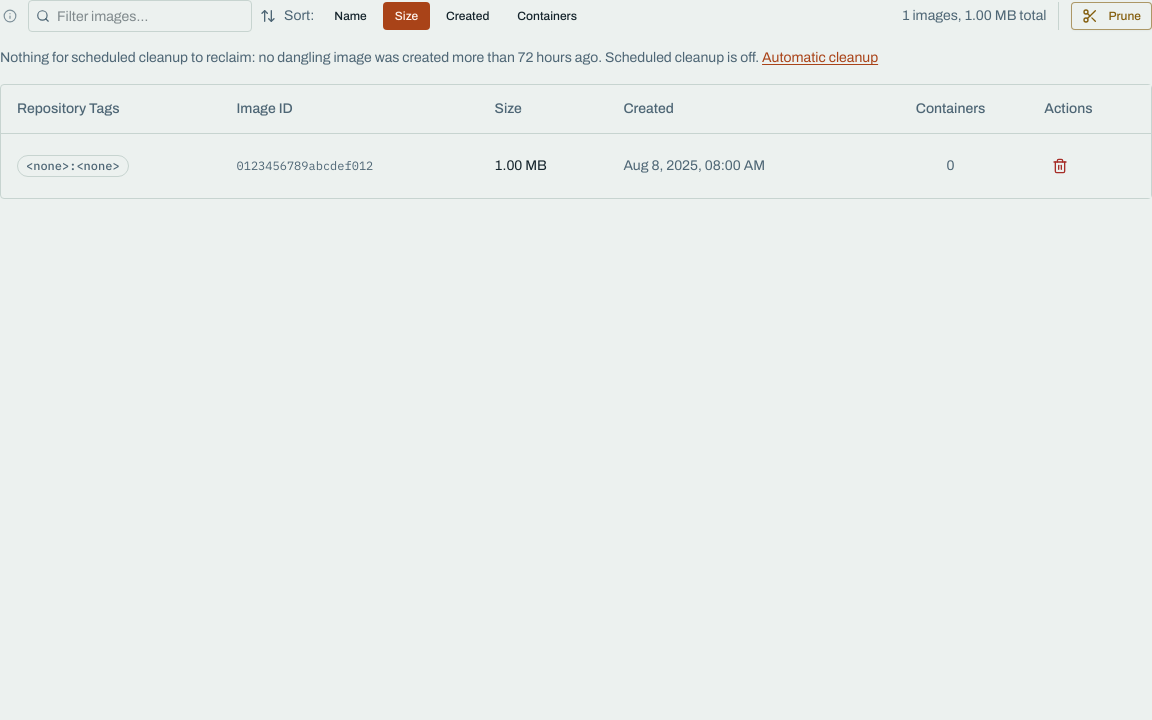
it: ImagesTab — deleting › names an untagged image by its id in the confirmation
Click the button named "Remove image". click: (1060, 166)
box: [1044,150,1076,182]
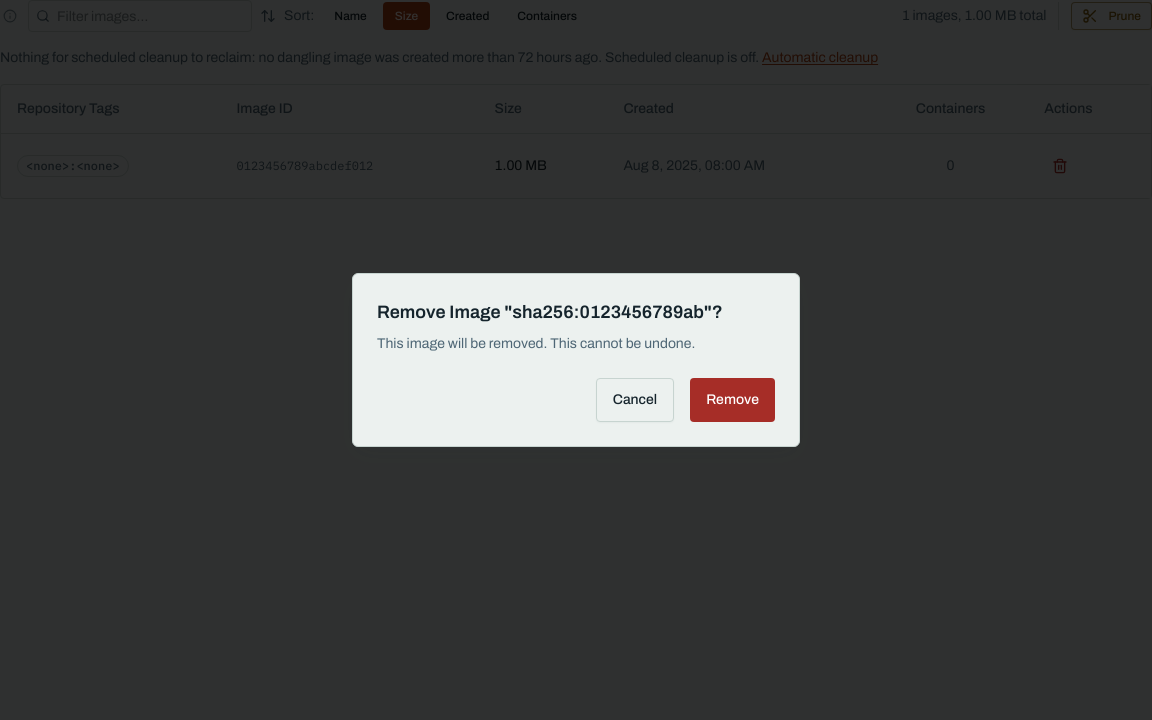
Check: the heading "Remove Image \"sha256:0123456789ab\"?" is shown, box [377,298,775,326]
